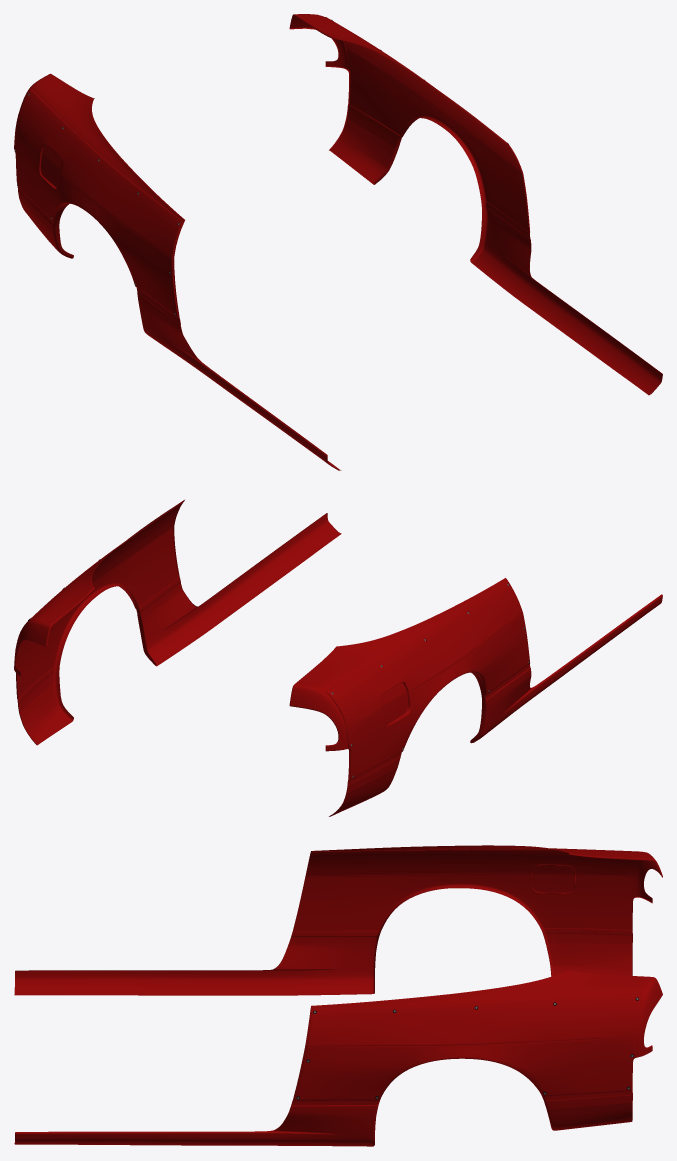
File: rearfenders_dmax.glb
The picture shows the model from 3 angles, top to bottom: view 1: azimuth 30°, elevation 25°; view 2: azimuth 150°, elevation 25°; view 3: azimuth 270°, elevation 25°; orthographic projection.
Parts seen in each view (by area): view 1: Fenders, Extensions; view 2: Fenders, Extensions; view 3: Fenders, Extensions.
Boxes of the visible parts, x1,y1,x2,y2 form: Fenders: [14, 14, 662, 470]; Extensions: [14, 17, 529, 317]; Fenders: [14, 500, 662, 816]; Extensions: [16, 501, 529, 779]; Fenders: [14, 845, 662, 1146]; Extensions: [294, 848, 642, 1100].
Size of the model in its own units: 1.76 by 0.7374 by 2.73.
